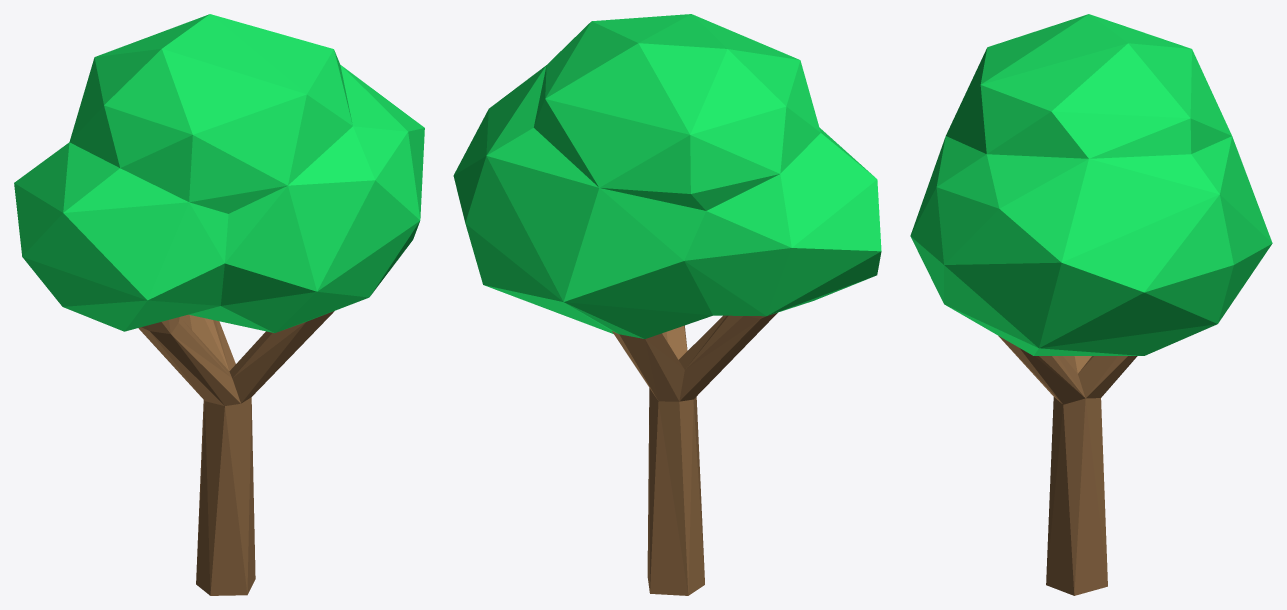
The picture shows the model from 3 angles, left to right: view 1: azimuth 30°, elevation 25°; view 2: azimuth 150°, elevation 25°; view 3: azimuth 270°, elevation 25°; orthographic projection. The views are drawn at different scales.
Visible parts, largest first — view 1: Icosphere; view 2: Icosphere; view 3: Icosphere.
Boxes of the visible parts, left/top/right/bottom form: Icosphere: left=14, top=14, right=424, bottom=595; Icosphere: left=453, top=14, right=881, bottom=595; Icosphere: left=910, top=14, right=1272, bottom=595.
Size of the model in its own units: 811 by 1079 by 651.
Materials: 1 (1 with a texture image).
